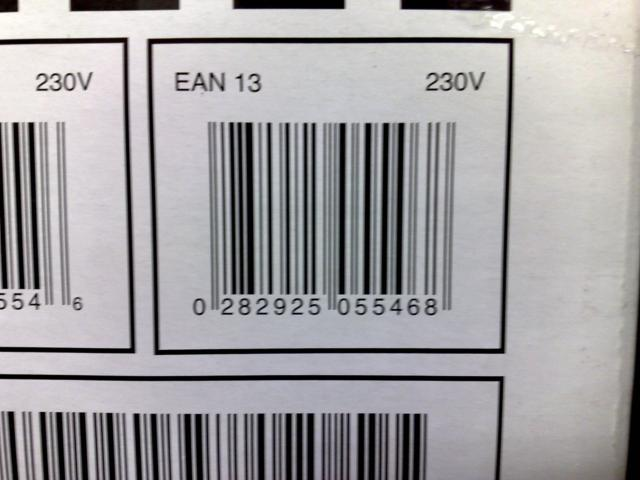Barkod: (204, 118, 457, 297), (0, 410, 428, 480), (0, 120, 71, 292)
